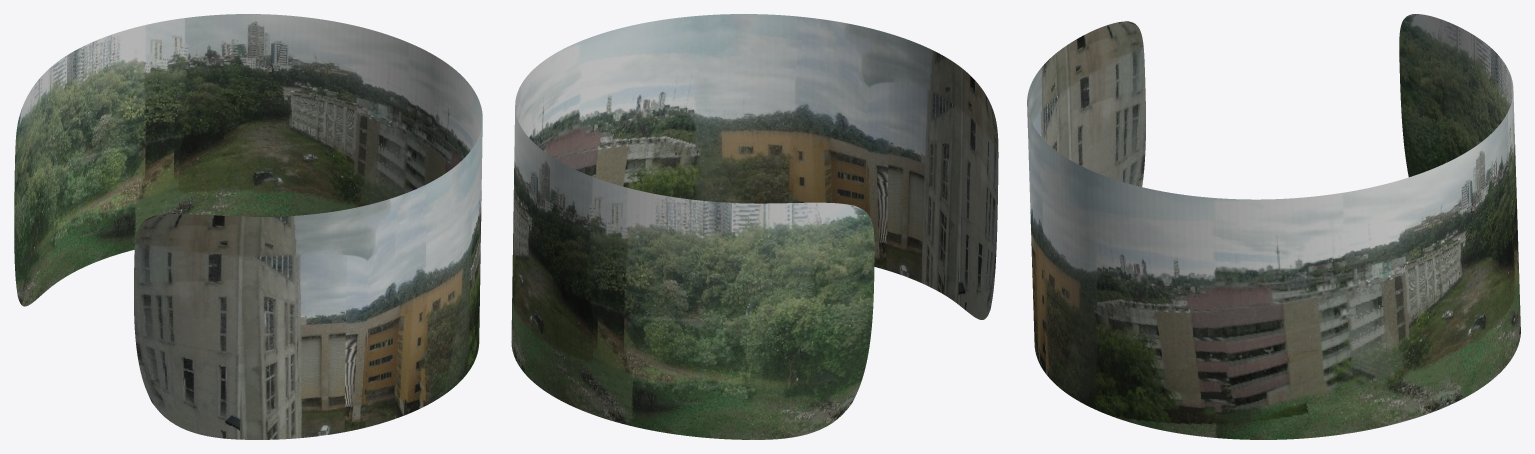
File: imagem_janela.fbx
The picture shows the model from 3 angles, left to right: view 1: azimuth 30°, elevation 25°; view 2: azimuth 150°, elevation 25°; view 3: azimuth 270°, elevation 25°; orthographic projection. The views are drawn at different scales.
Parts seen in each view (by area): view 1: Cilindro.026; view 2: Cilindro.026; view 3: Cilindro.026.
Part boxes in pixels (x1,y1,x2,y2): Cilindro.026: (14,14,482,439); Cilindro.026: (511,14,998,439); Cilindro.026: (1027,14,1520,439).
Size of the model in its own units: 2905 by 1747 by 3093.
